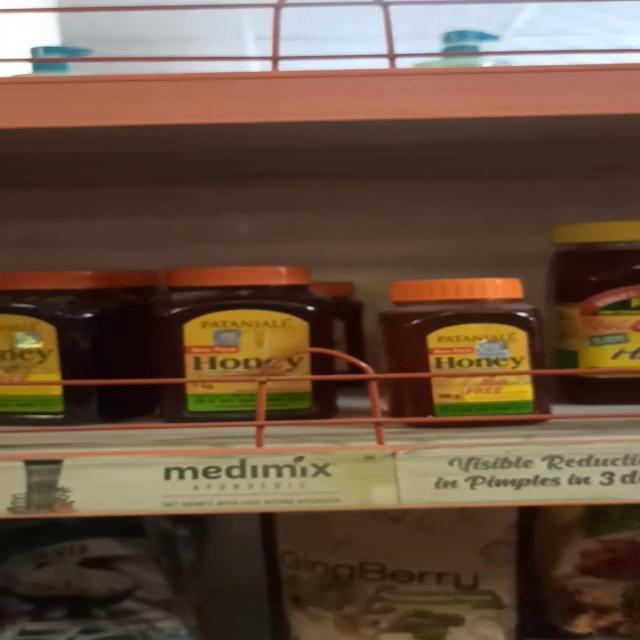Patanjali Honey: (376, 284, 554, 428), (151, 268, 311, 412)
